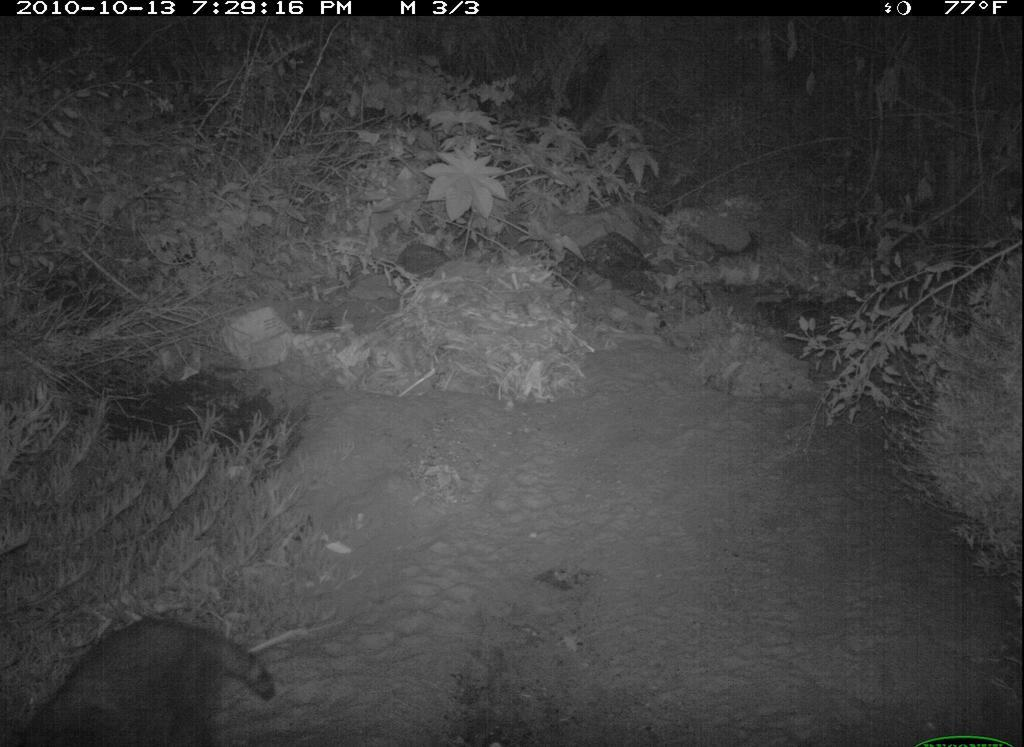raccoon: (3, 602, 303, 745)
